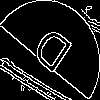D: (25, 25, 75, 83)
